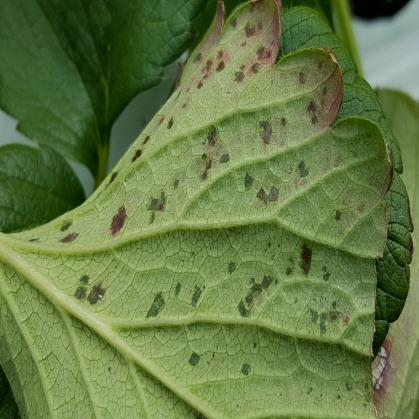Angular Leafspot: (23, 0, 395, 412), (371, 246, 418, 418)
